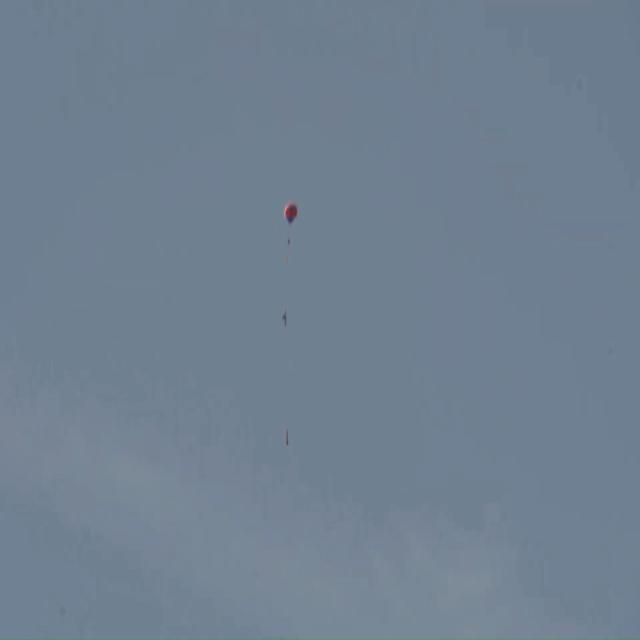Rocket: (285, 428, 289, 447)
